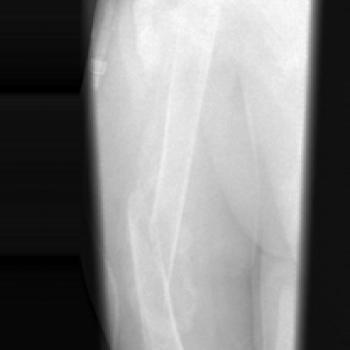Fracture: (116, 188, 188, 275)
